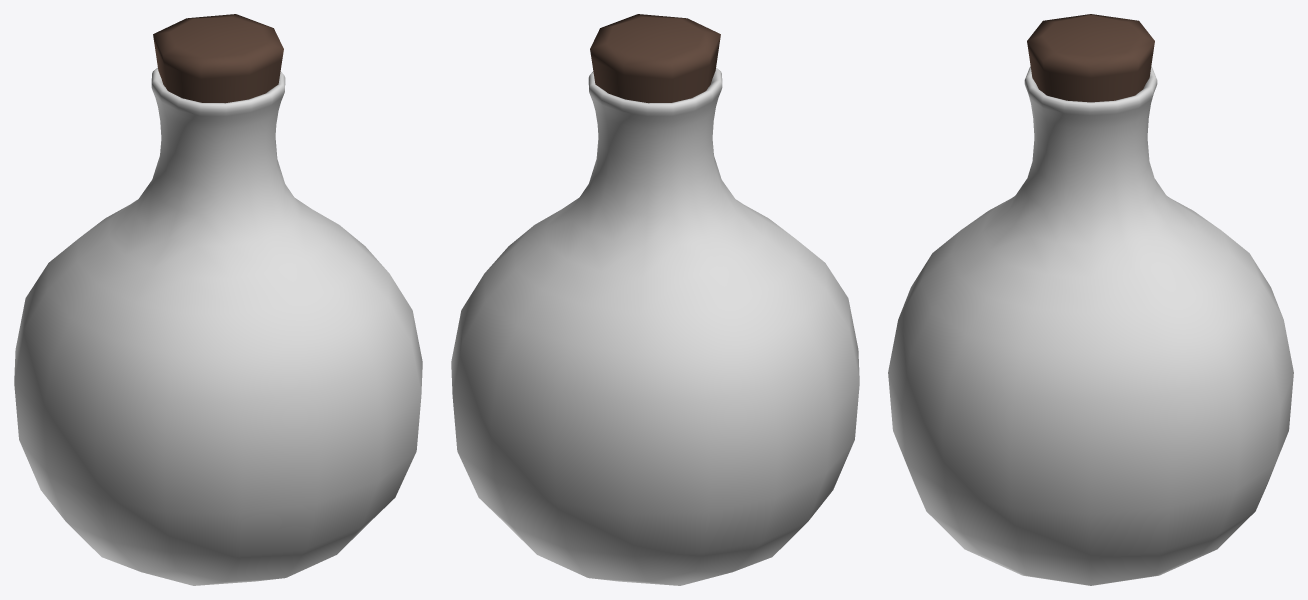
The model's file is i_potion_hp.glb.
The picture shows the model from 3 angles, left to right: view 1: azimuth 30°, elevation 25°; view 2: azimuth 150°, elevation 25°; view 3: azimuth 270°, elevation 25°; orthographic projection.
Parts seen in each view (by area): view 1: Potion1_Filled; view 2: Potion1_Filled; view 3: Potion1_Filled.
Part boxes in pixels (x1,y1,x2,y2): Potion1_Filled: [14, 14, 422, 585]; Potion1_Filled: [451, 14, 859, 585]; Potion1_Filled: [888, 14, 1293, 585].
Bounding box in the file's own units: 0.6685 × 0.9629 × 0.6685.
